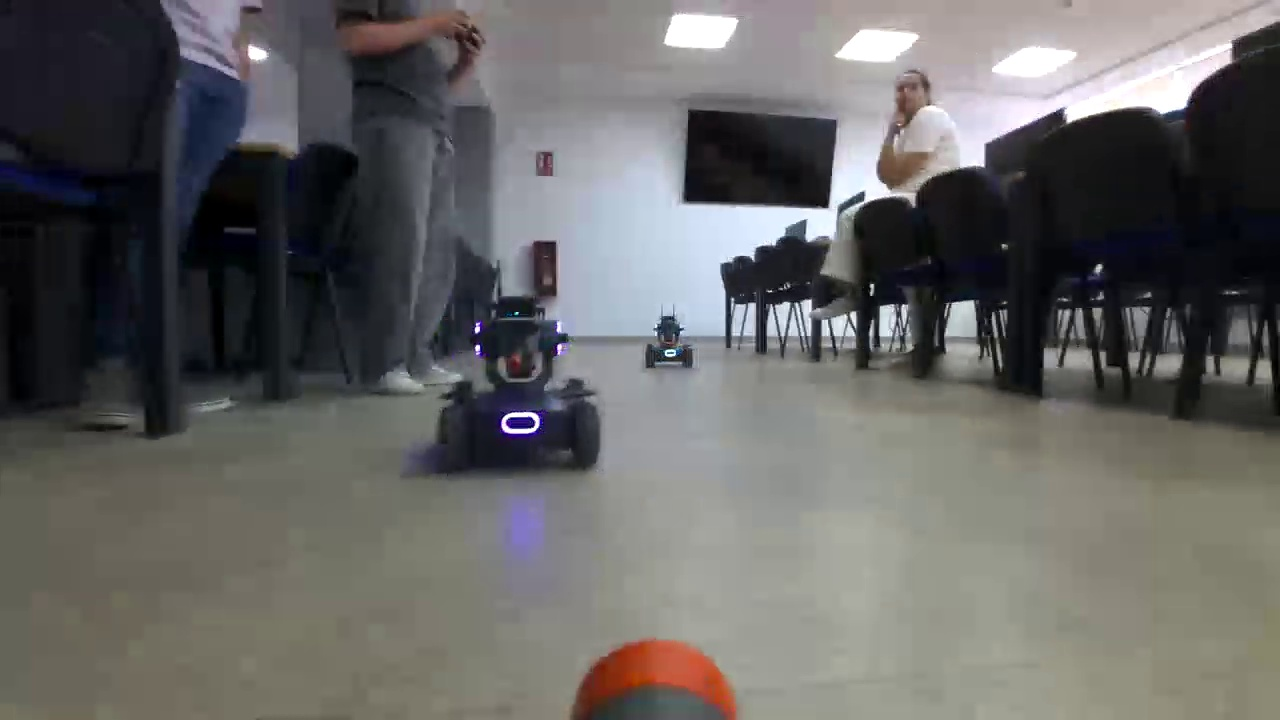robot: (435, 295, 600, 470), (643, 312, 695, 368)
